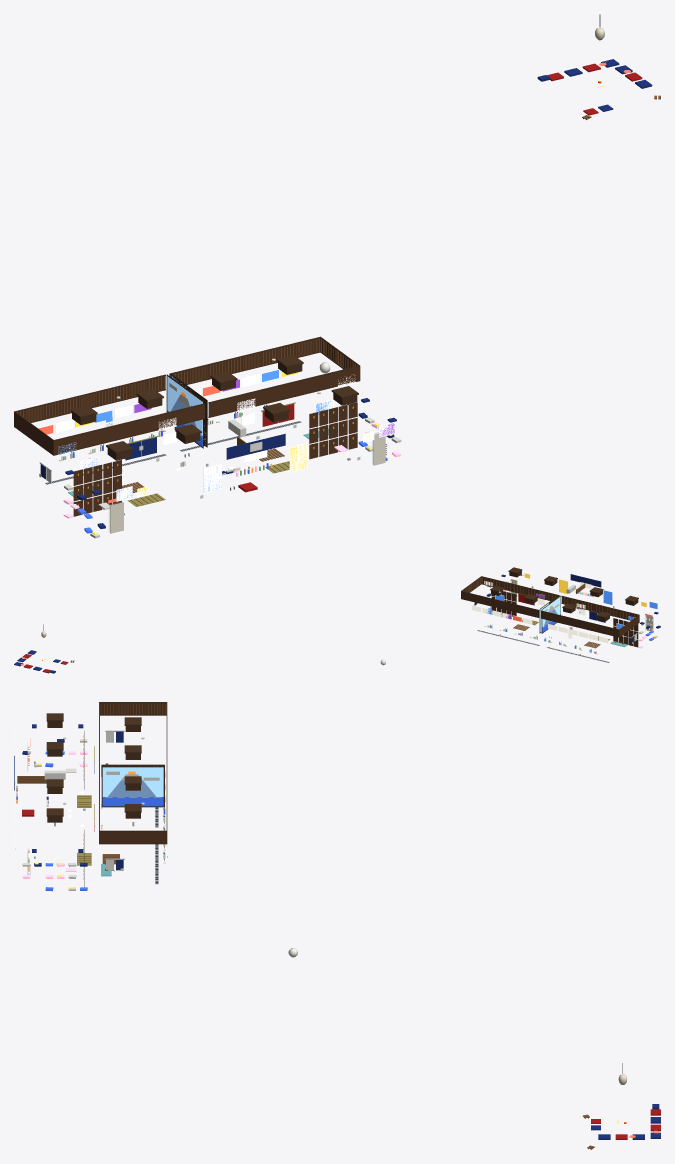
Rendered from SM_Onsen_Interior_NoCol.fbx.
3 views of the same model, one above another, from view 1: azimuth 30°, elevation 25°; view 2: azimuth 150°, elevation 25°; view 3: azimuth 270°, elevation 25° (orthographic). The views are drawn at different scales.
Parts seen in each view (by area): view 1: SM_Onsen_Interior_NoCol; view 2: SM_Onsen_Interior_NoCol; view 3: SM_Onsen_Interior_NoCol.
Boxes of the visible parts, x1,y1,x2,y2 form: SM_Onsen_Interior_NoCol: [14, 14, 660, 538]; SM_Onsen_Interior_NoCol: [14, 567, 660, 673]; SM_Onsen_Interior_NoCol: [14, 702, 660, 1149].
Size of the model in its own units: 36.41 by 4.33 by 26.49.
